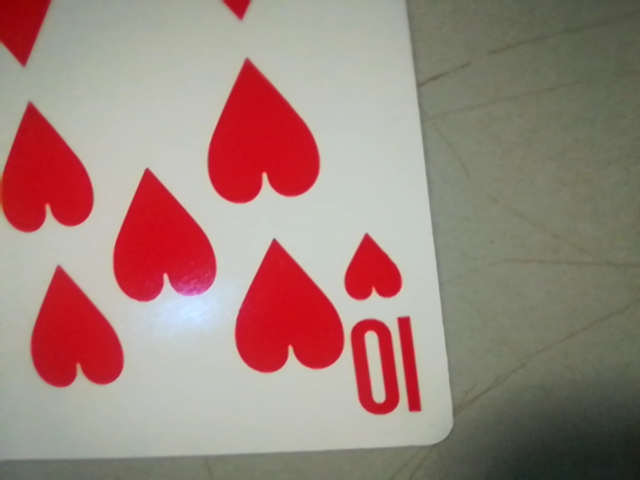hx 10: (337, 218, 439, 431)
